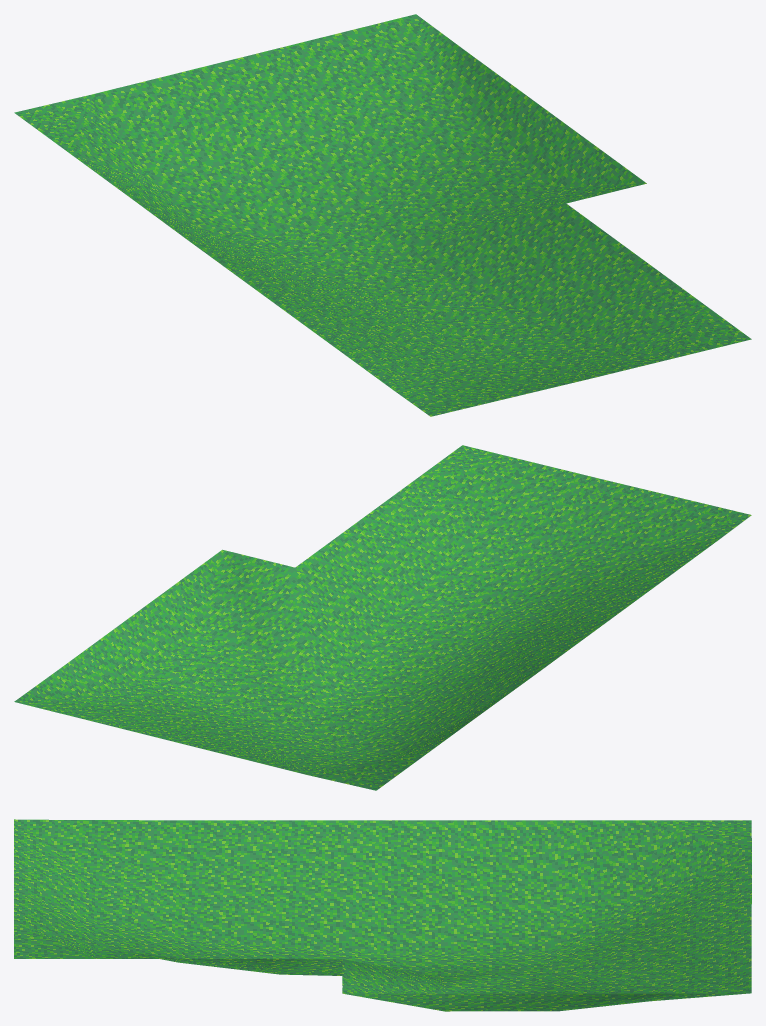
File: poolLand.glb
3 views of the same model, one above another, from view 1: azimuth 30°, elevation 25°; view 2: azimuth 150°, elevation 25°; view 3: azimuth 270°, elevation 25° (orthographic). The views are drawn at different scales.
Visible parts, largest first — view 1: Plane; view 2: Plane; view 3: Plane.
Part boxes in pixels (x1,y1,x2,y2): Plane: (14, 14, 751, 416); Plane: (14, 445, 751, 790); Plane: (14, 819, 751, 1011).
Size of the model in its own units: 1.94 by 0.3477 by 3.48.
Materials: 1 (1 with a texture image).
